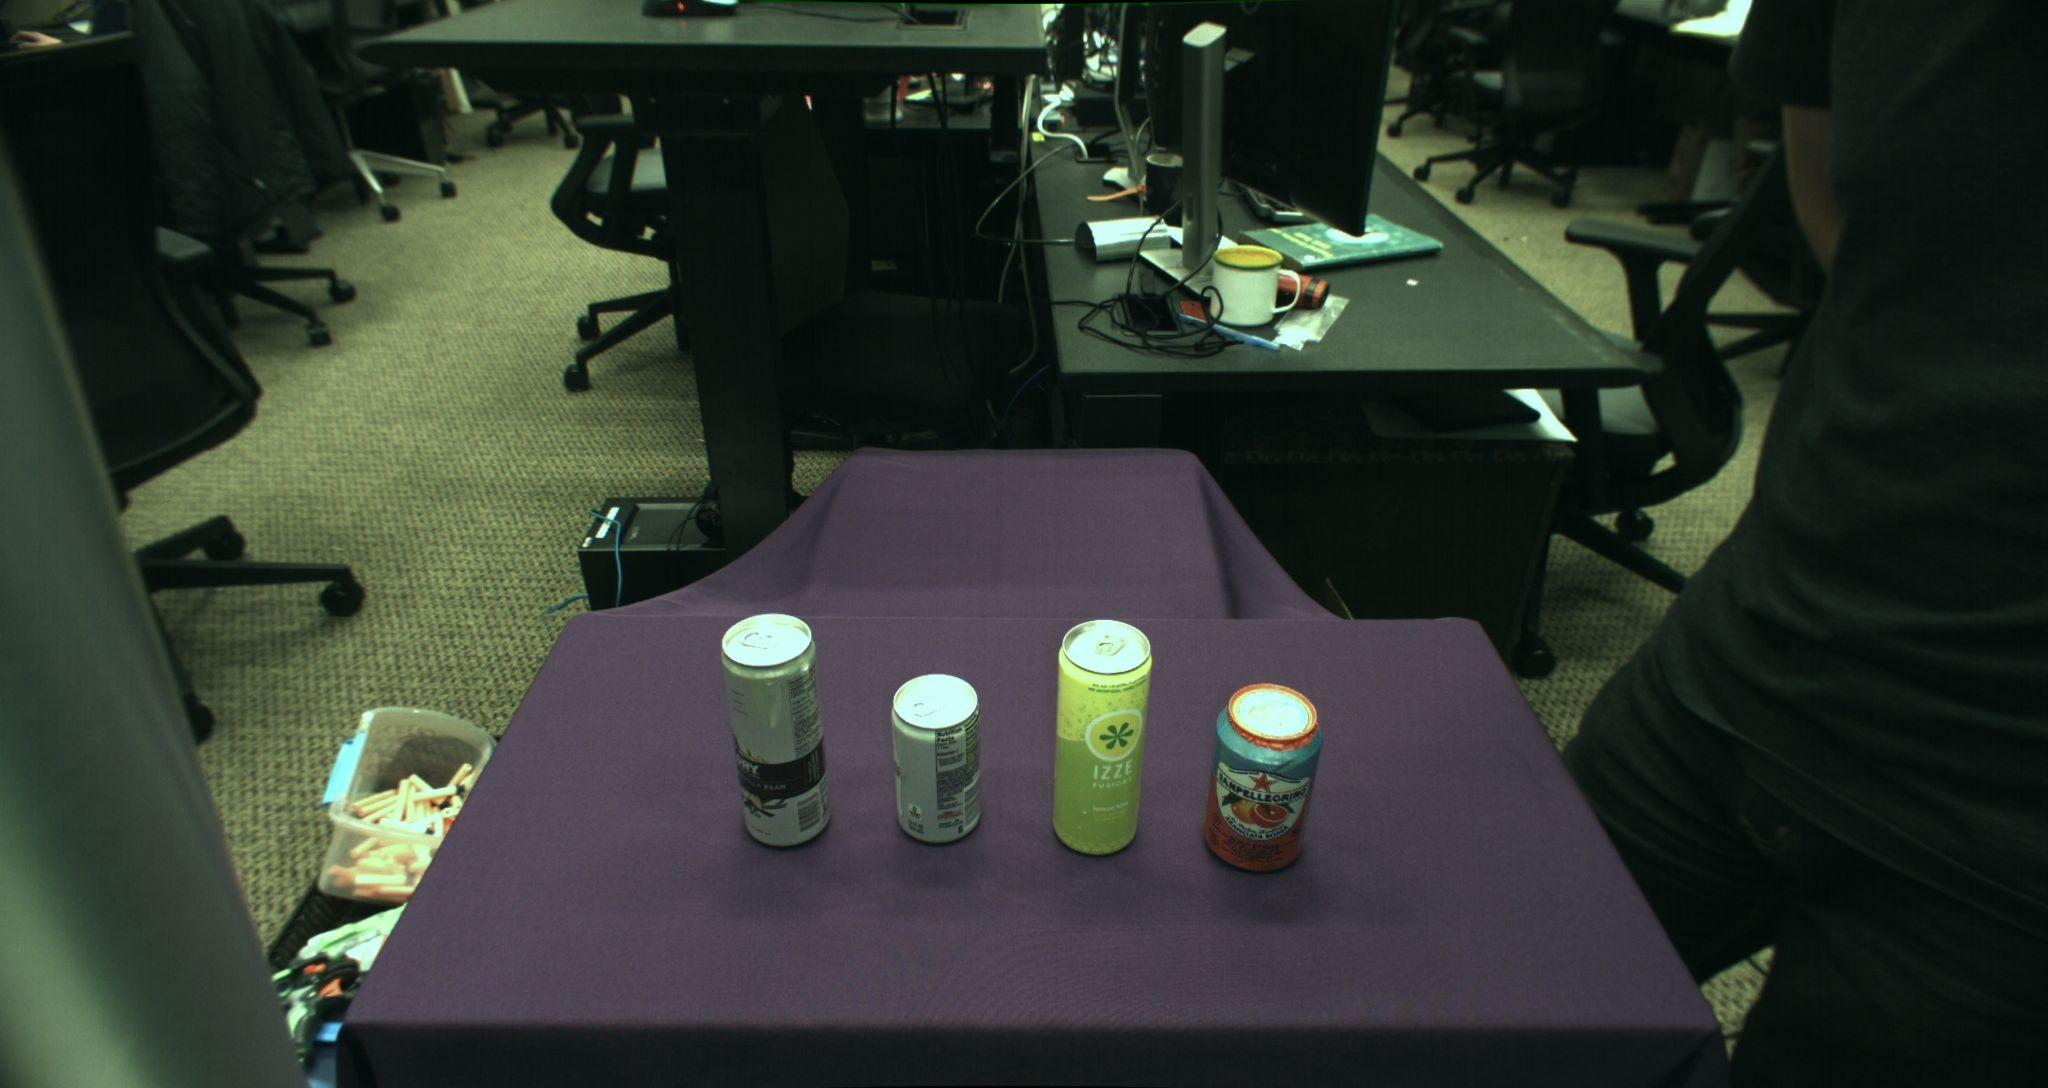can_diet_coke_small: (891, 673, 983, 845)
can_dry_sparkling_vanilla_bean: (721, 612, 832, 850)
can_izze_fusions_lemon_lime: (1052, 619, 1153, 856)
can_sanpellegrino_blood_orange: (1204, 684, 1323, 875)
